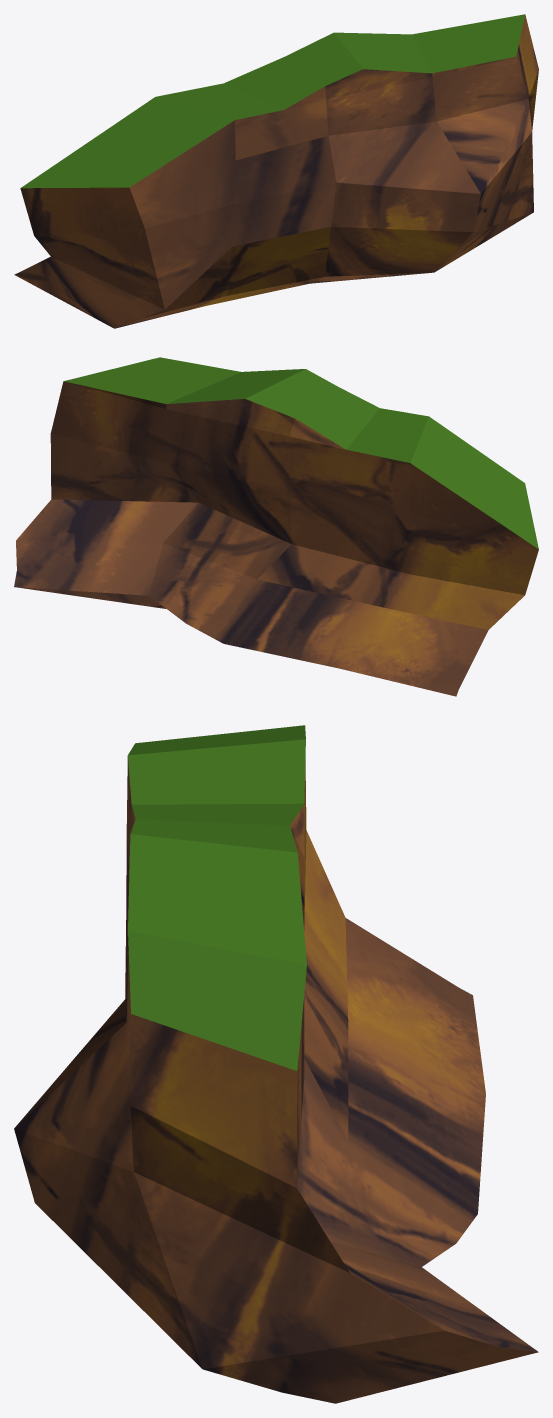
The model's file is sali33.obj.
3 views of the same model, one above another, from view 1: azimuth 30°, elevation 25°; view 2: azimuth 150°, elevation 25°; view 3: azimuth 270°, elevation 25° (orthographic). The views are drawn at different scales.
Parts seen in each view (by area): view 1: Cube.003; view 2: Cube.003; view 3: Cube.003.
Boxes of the visible parts, left/top/right/bottom form: Cube.003: left=14, top=14, right=538, bottom=328; Cube.003: left=14, top=357, right=538, bottom=696; Cube.003: left=14, top=725, right=538, bottom=1403.
Bounding box in the file's own units: 106 × 48.84 × 51.8.
Materials: 1 (1 with a texture image).
